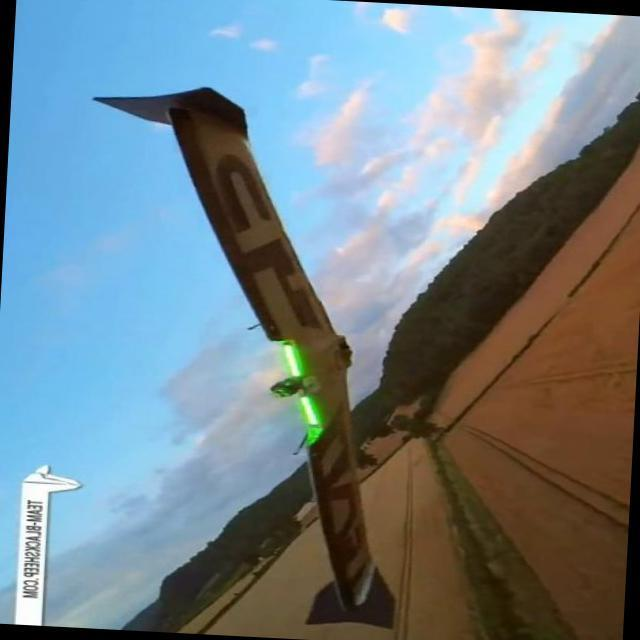iha: (79, 86, 445, 601)
